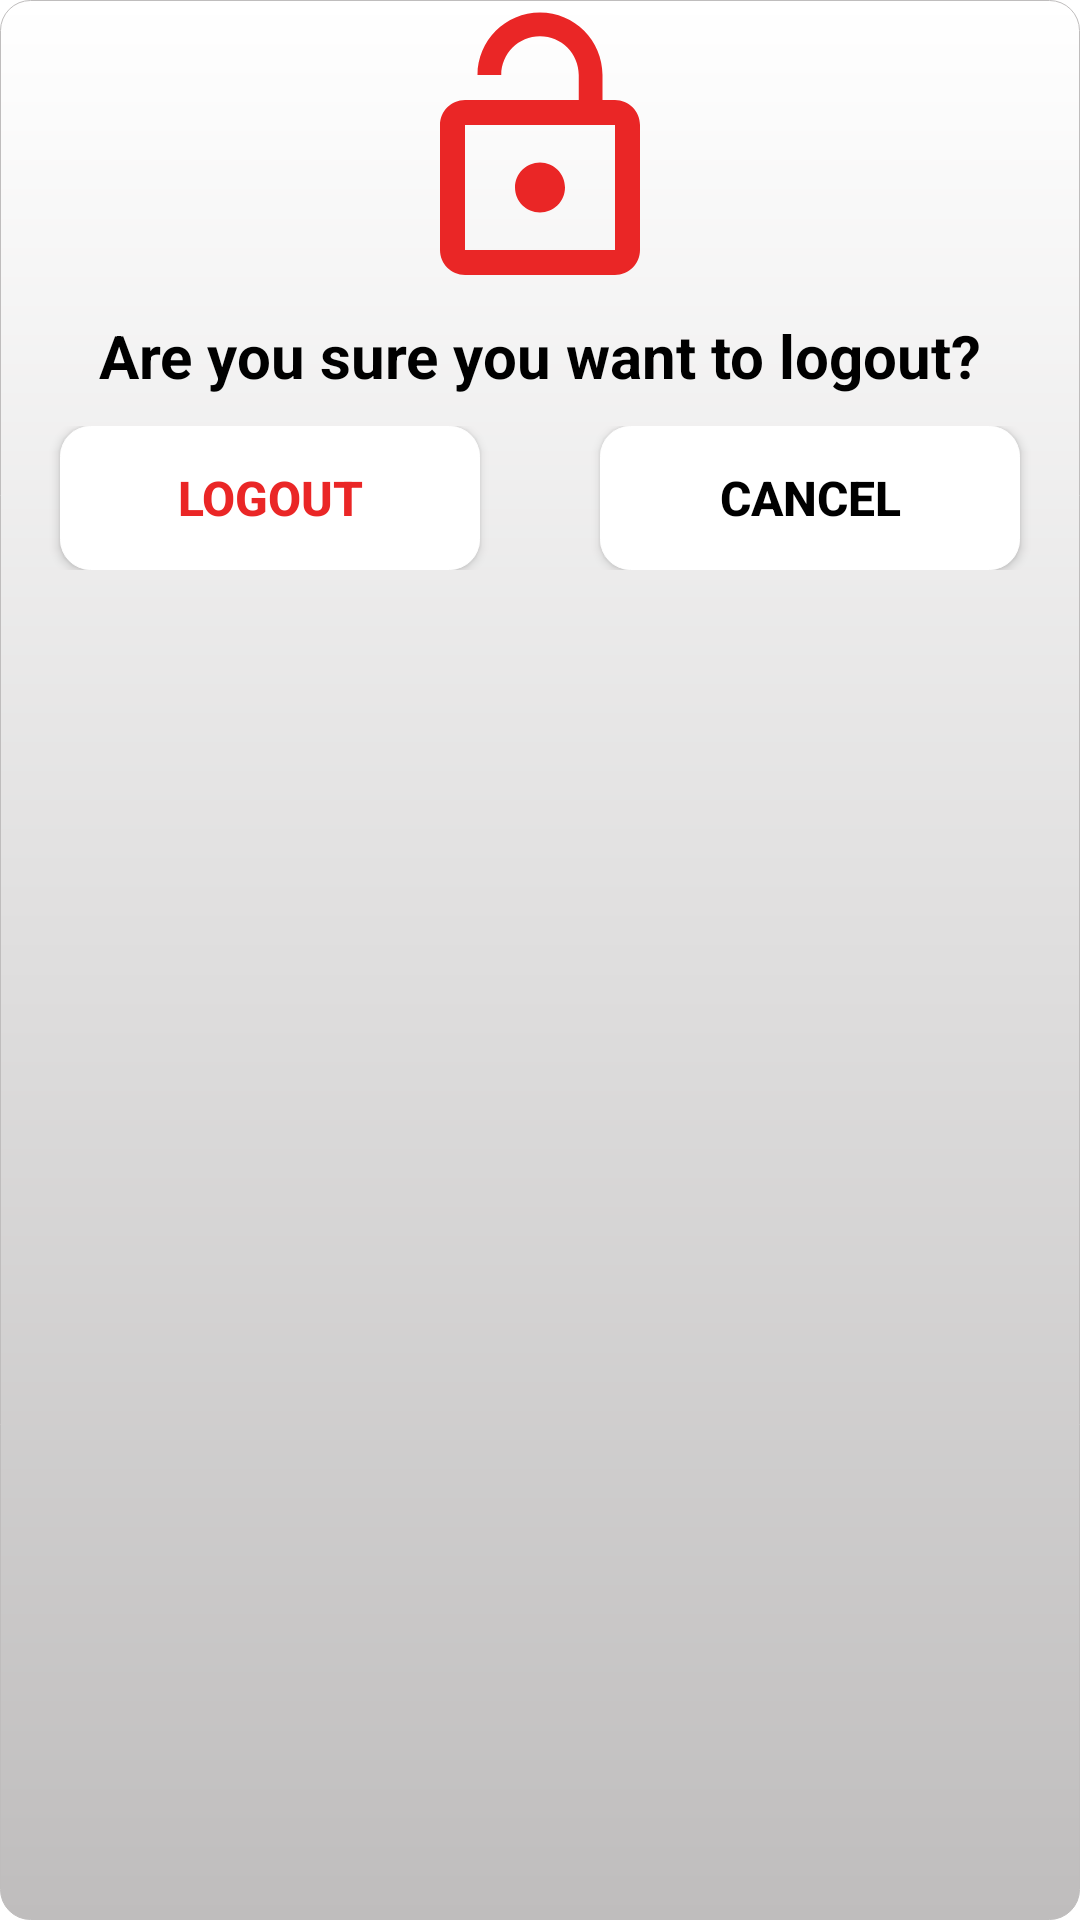

Named icons in this screenshot (1080 × 1920) and their bounding boxes, {"left": x1, "top": y1, "right": x2, "bottom": y2}:
lock out: {"left": 440, "top": 12, "right": 640, "bottom": 275}
